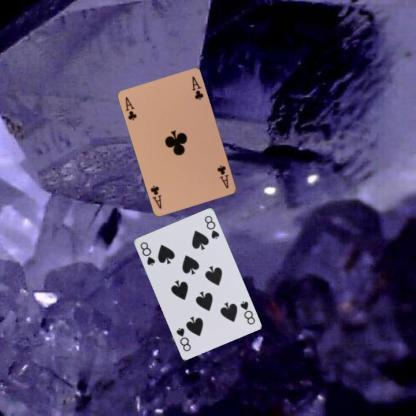8s: (237, 298, 256, 326), (138, 239, 156, 266)
Ac: (215, 162, 230, 190), (123, 94, 138, 122)
